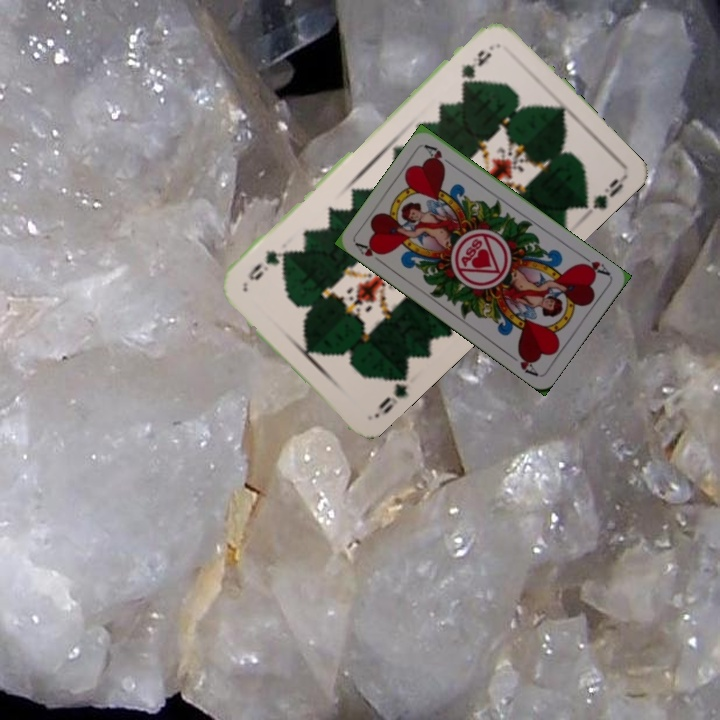G9: (457, 40, 497, 88), (374, 366, 411, 417)
HA: (576, 250, 613, 279), (352, 239, 387, 268)
